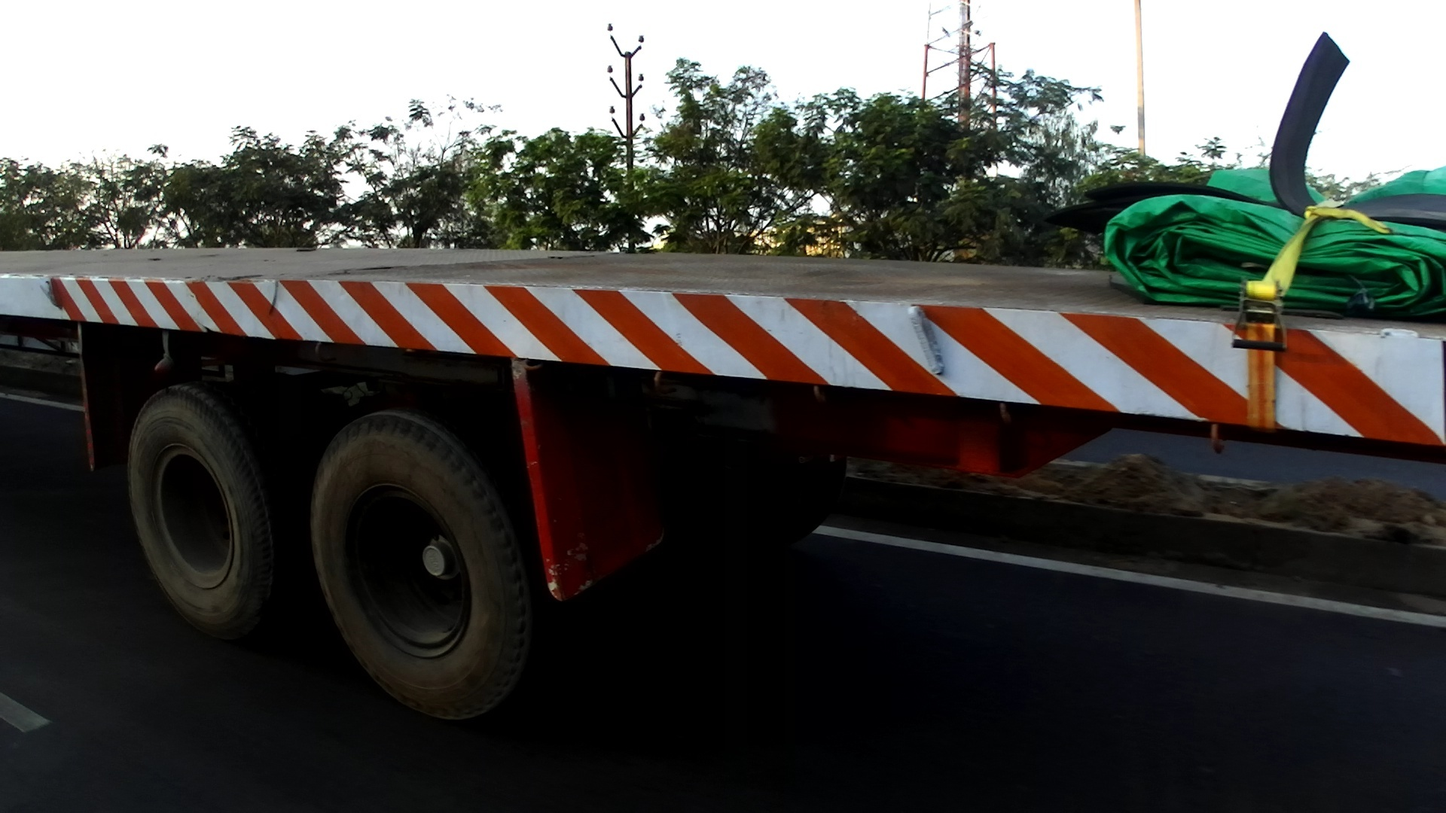vehicle fallback: (2, 30, 1446, 723)
